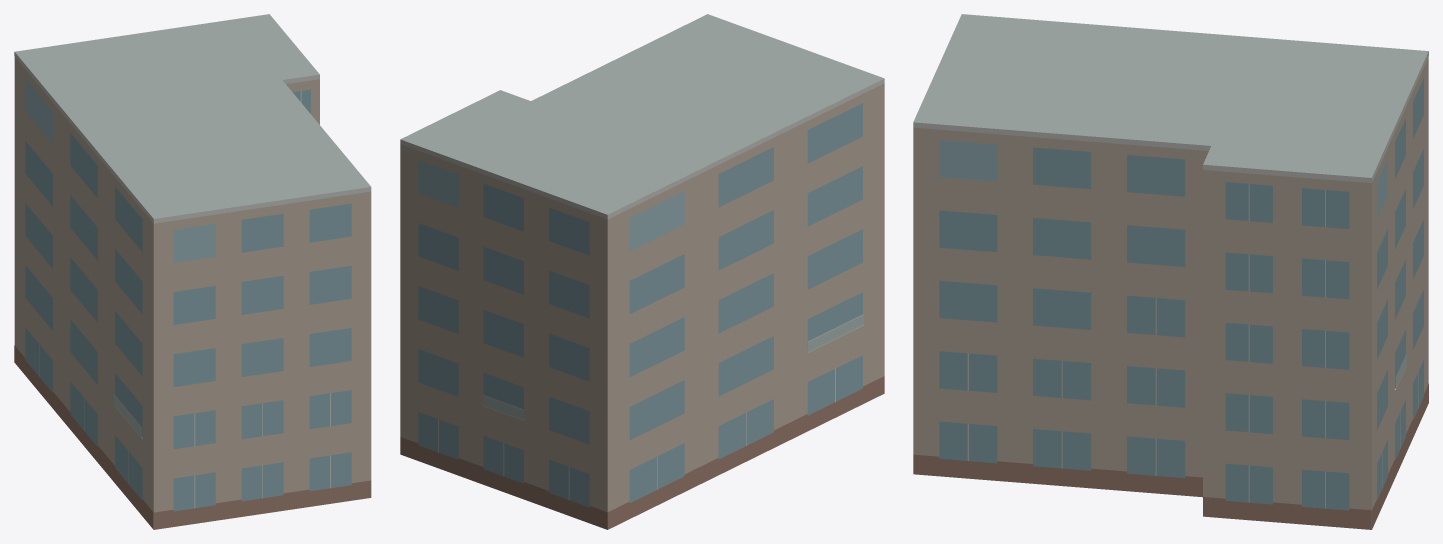
Rendered from survey-upis-32935032.glb.
3 renders of one model, left to right at view 1: azimuth 30°, elevation 25°; view 2: azimuth 150°, elevation 25°; view 3: azimuth 270°, elevation 25°, orthographic. The views are drawn at different scales.
Visible parts, largest first — view 1: survey-upis-32935032.tmp; view 2: survey-upis-32935032.tmp; view 3: survey-upis-32935032.tmp.
Boxes of the visible parts, x1,y1,x2,y2 form: survey-upis-32935032.tmp: [14, 14, 371, 529]; survey-upis-32935032.tmp: [400, 14, 884, 529]; survey-upis-32935032.tmp: [913, 14, 1428, 529].
Bounding box in the file's own units: 16.4 × 16.4 × 21.79.
